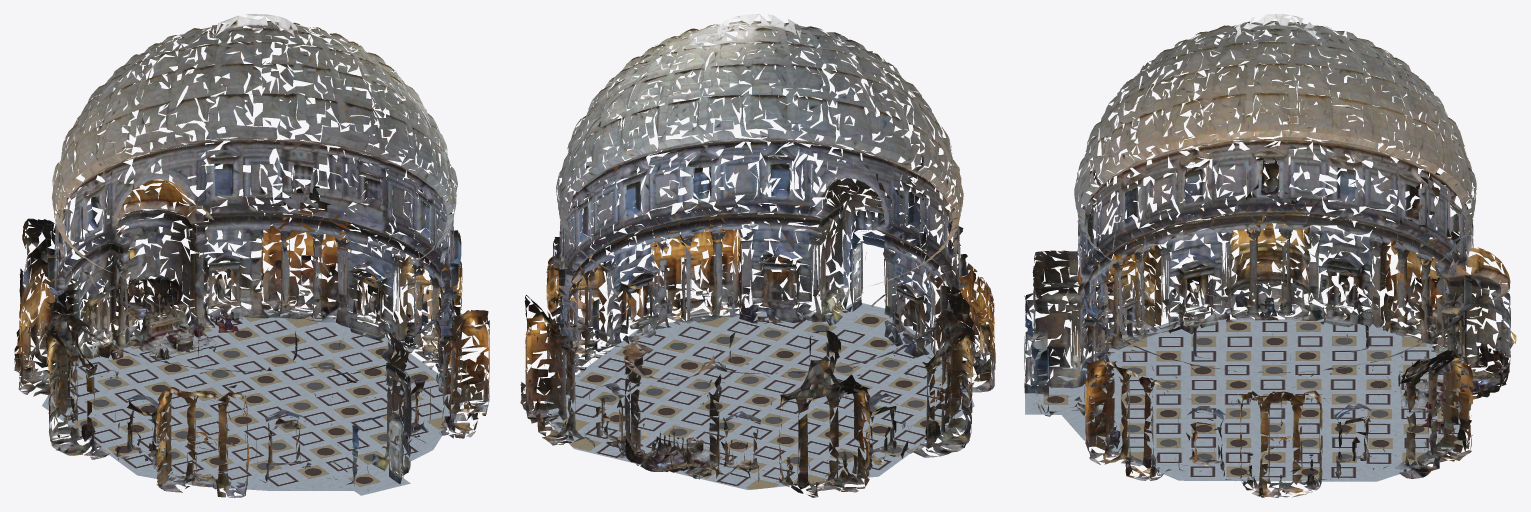
The model's file is thumb.glb.
The picture shows the model from 3 angles, left to right: view 1: azimuth 30°, elevation 25°; view 2: azimuth 150°, elevation 25°; view 3: azimuth 270°, elevation 25°; orthographic projection.
Visible parts, largest first — view 1: Object_2, Object_15, Object_18, Object_5, Object_10, Object_8, Object_14, Object_6, Object_17, Object_7, Object_9, Object_16 (+2 smaller); view 2: Object_2, Object_16, Object_17, Object_8, Object_5, Object_6, Object_9, Object_15, Object_18, Object_14, Object_7, Object_10 (+2 smaller); view 3: Object_2, Object_17, Object_15, Object_7, Object_6, Object_16, Object_14, Object_18, Object_5, Object_10, Object_9, Object_8 (+2 smaller).
Part boxes in pixels (<box>): Object_2: <box>42,308,463,495</box>; Object_15: <box>14,22,488,492</box>; Object_18: <box>50,21,488,476</box>; Object_5: <box>29,14,489,497</box>; Object_10: <box>14,17,486,497</box>; Object_8: <box>42,28,467,487</box>; Object_14: <box>14,15,482,497</box>; Object_6: <box>46,21,489,455</box>; Object_17: <box>51,29,467,448</box>; Object_7: <box>53,27,489,466</box>; Object_9: <box>20,88,473,484</box>; Object_16: <box>19,34,489,486</box>; Object_2: <box>544,301,974,489</box>; Object_16: <box>546,31,993,472</box>; Object_17: <box>528,21,986,374</box>; Object_8: <box>525,22,994,437</box>; Object_5: <box>520,14,995,497</box>; Object_6: <box>537,112,993,448</box>; Object_9: <box>546,30,993,470</box>; Object_15: <box>524,111,995,493</box>; Object_18: <box>526,21,994,471</box>; Object_14: <box>521,14,985,493</box>; Object_7: <box>538,24,958,409</box>; Object_10: <box>525,23,995,496</box>; Object_2: <box>1025,319,1465,481</box>; Object_17: <box>1030,32,1472,497</box>; Object_15: <box>1025,139,1510,487</box>; Object_7: <box>1028,31,1470,478</box>; Object_6: <box>1025,55,1476,483</box>; Object_16: <box>1025,16,1499,481</box>; Object_14: <box>1025,15,1516,497</box>; Object_18: <box>1025,55,1510,488</box>; Object_5: <box>1024,14,1514,485</box>; Object_10: <box>1034,30,1494,480</box>; Object_9: <box>1025,21,1509,492</box>; Object_8: <box>1057,34,1504,497</box>.
Size of the model in its own units: 41.66 by 35.92 by 43.31.
Materials: 3 (3 with a texture image).
